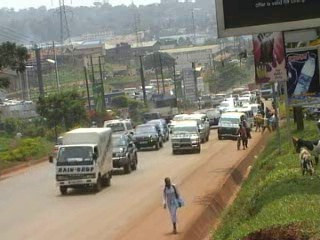Car: (108, 129, 140, 176), (124, 122, 167, 152), (140, 116, 169, 143), (164, 111, 188, 136), (201, 104, 226, 127)
